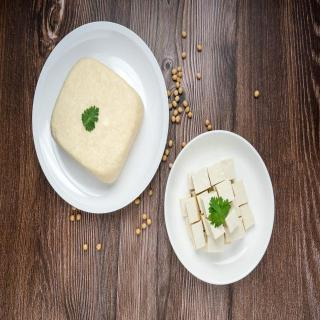Tahu: (44, 59, 154, 186), (176, 159, 263, 255)
